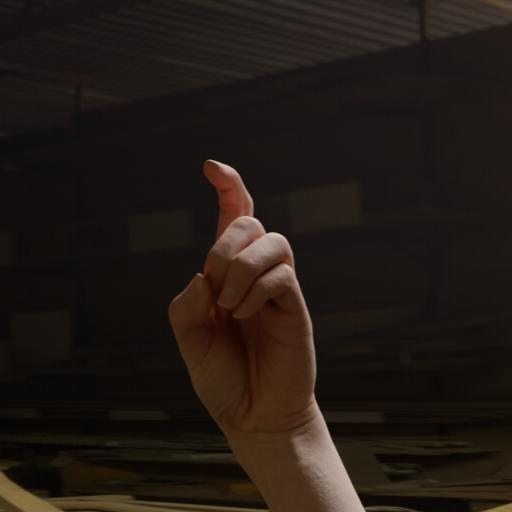X: (148, 147, 336, 512)
